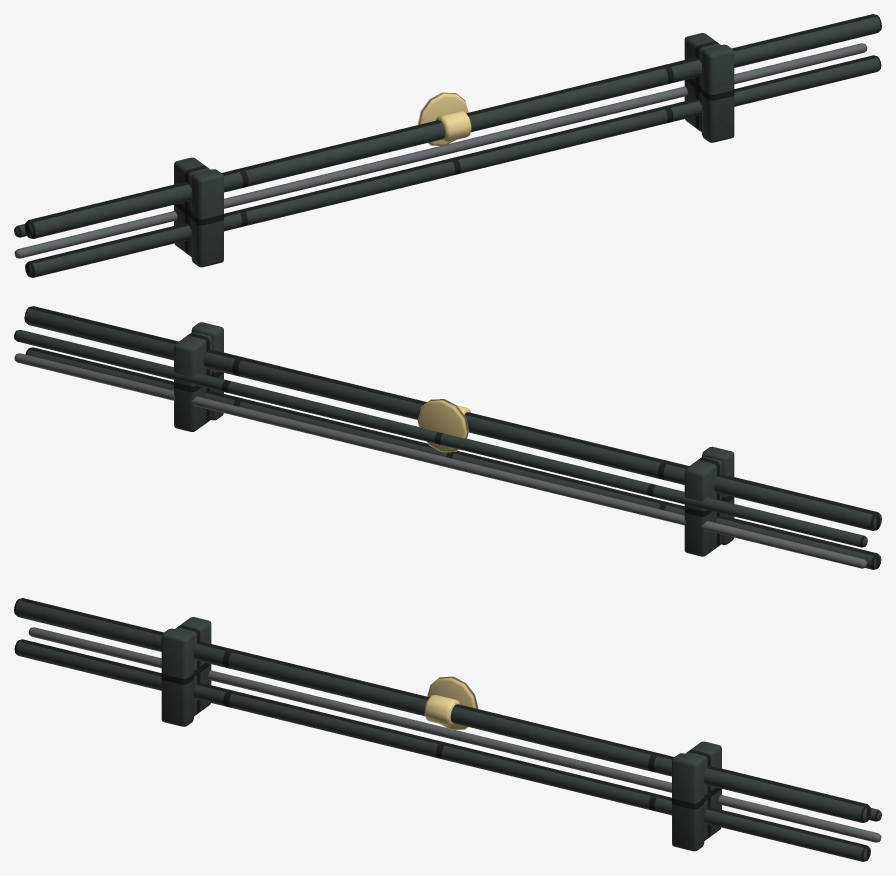
The model's file is WK_UTIL_PIPE_RUN_A_01.glb.
3 views of the same model, one above another, from view 1: azimuth 30°, elevation 25°; view 2: azimuth 150°, elevation 25°; view 3: azimuth 330°, elevation 25° (orthographic).
Visible parts, largest first — view 1: WK_UTIL_PIPE_RUN_A_01; view 2: WK_UTIL_PIPE_RUN_A_01; view 3: WK_UTIL_PIPE_RUN_A_01.
Part boxes in pixels (left/top/right/bottom): WK_UTIL_PIPE_RUN_A_01: left=14, top=14, right=881, bottom=277; WK_UTIL_PIPE_RUN_A_01: left=14, top=306, right=881, bottom=569; WK_UTIL_PIPE_RUN_A_01: left=14, top=598, right=881, bottom=861.
Size of the model in its own units: 4 by 0.42 by 0.245.
3 materials, 1 textured.
